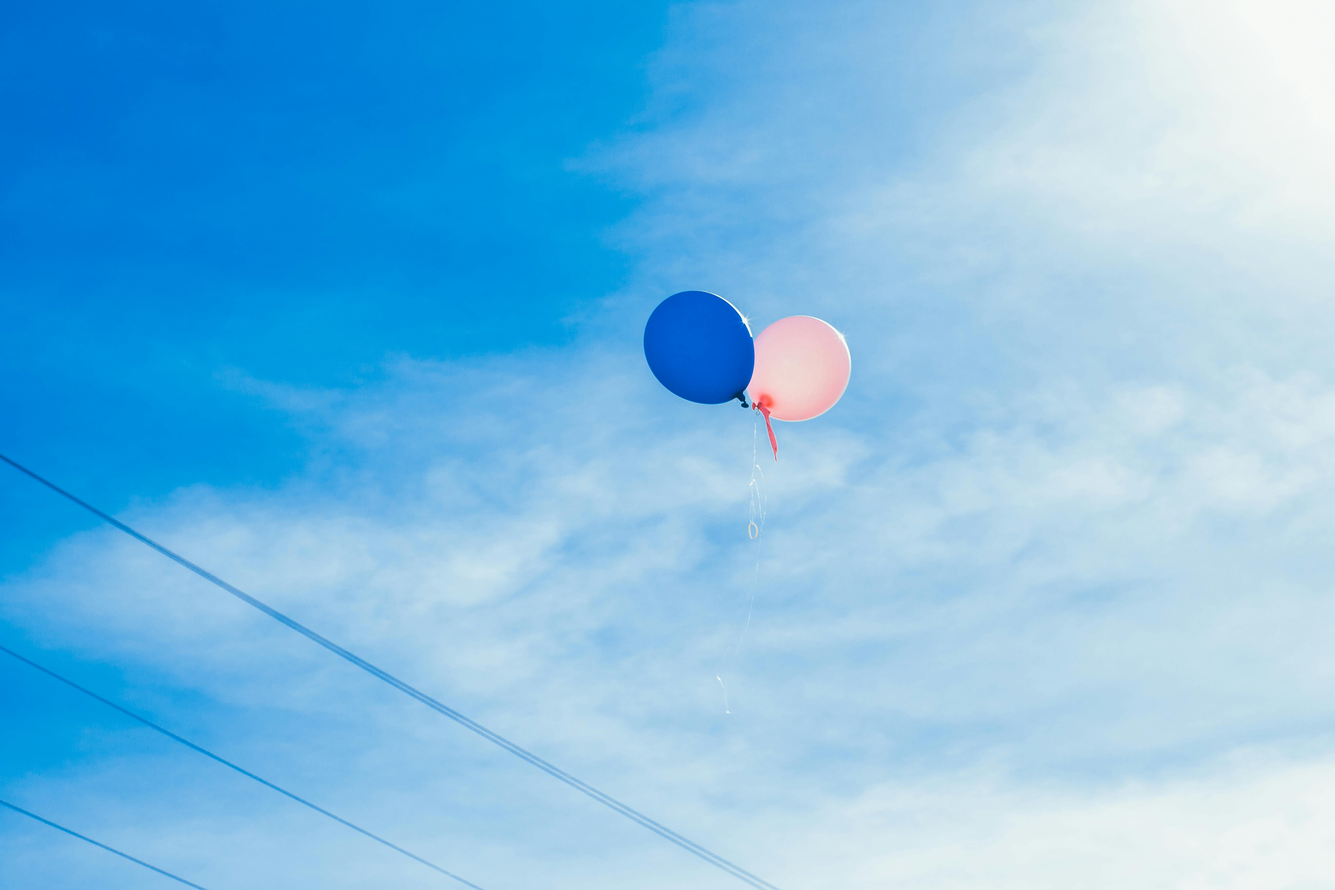balloon: (643, 291, 754, 404), (748, 316, 851, 421)
